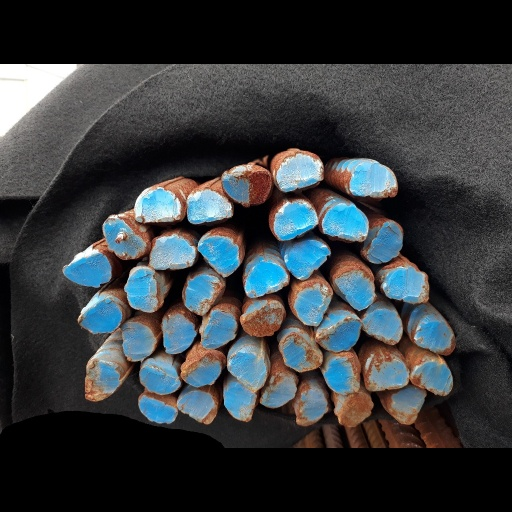dipstick: (348, 161, 399, 203), (314, 311, 361, 354), (284, 238, 332, 280), (223, 166, 271, 208), (103, 216, 147, 260), (320, 203, 369, 242), (198, 233, 240, 277), (363, 219, 403, 265), (275, 154, 323, 192), (290, 282, 331, 326), (362, 304, 404, 346), (271, 203, 318, 240), (197, 308, 238, 350), (413, 318, 456, 358), (181, 275, 224, 315), (241, 298, 285, 337), (138, 356, 182, 395), (62, 253, 111, 288), (383, 269, 430, 304), (123, 267, 157, 315), (410, 361, 454, 398), (364, 356, 409, 392), (320, 355, 360, 395), (334, 269, 375, 308), (258, 367, 297, 408), (246, 259, 288, 297), (161, 313, 198, 356), (150, 236, 195, 271), (226, 354, 267, 392), (78, 298, 122, 333), (133, 190, 181, 222), (82, 362, 121, 400), (177, 388, 217, 425), (186, 193, 232, 225), (385, 388, 425, 424), (333, 392, 373, 427), (292, 388, 327, 428), (121, 320, 156, 360), (223, 383, 258, 422), (138, 393, 177, 427)
